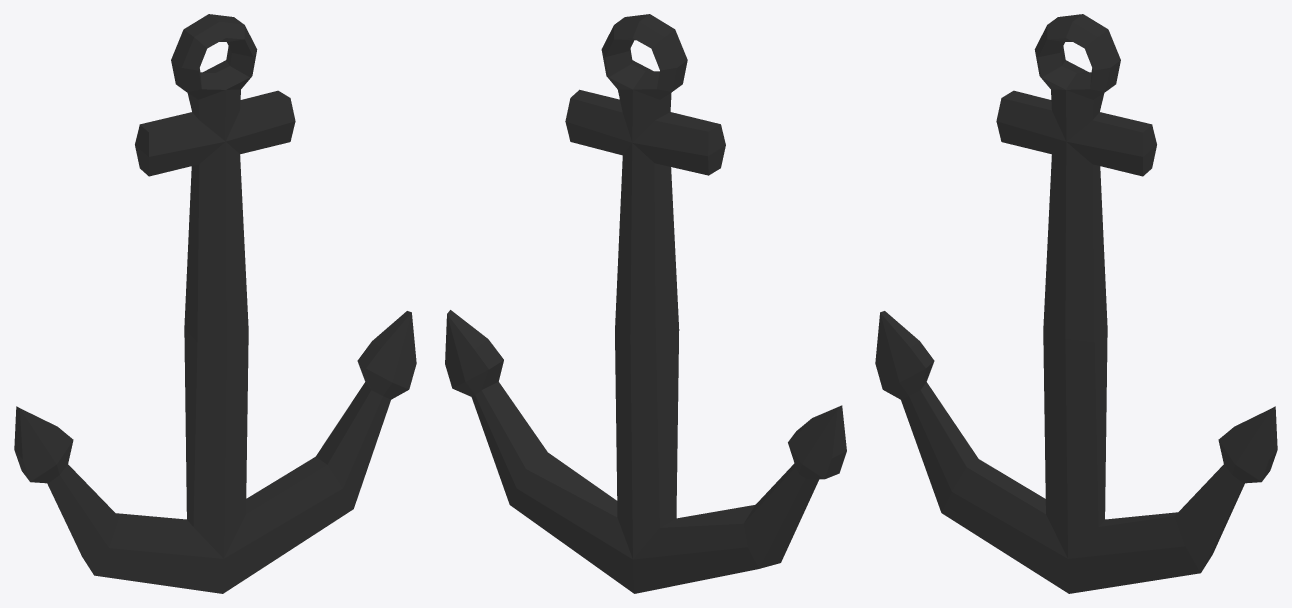
The model's file is anchor.glb.
The picture shows the model from 3 angles, left to right: view 1: azimuth 30°, elevation 25°; view 2: azimuth 150°, elevation 25°; view 3: azimuth 330°, elevation 25°; orthographic projection.
Parts seen in each view (by area): view 1: anchor; view 2: anchor; view 3: anchor.
Boxes of the visible parts, box(x1,y1,x2,y2) form: anchor: box(14, 14, 416, 593); anchor: box(445, 14, 846, 593); anchor: box(875, 14, 1277, 593).
Bounding box in the file's own units: 1.11 × 1.53 × 0.1301.
Materials: 1 (1 with a texture image).
